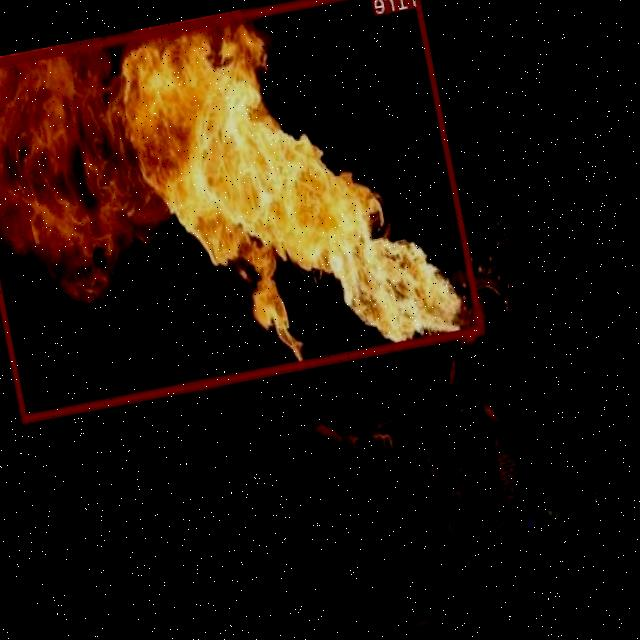fire: (0, 0, 486, 421)
